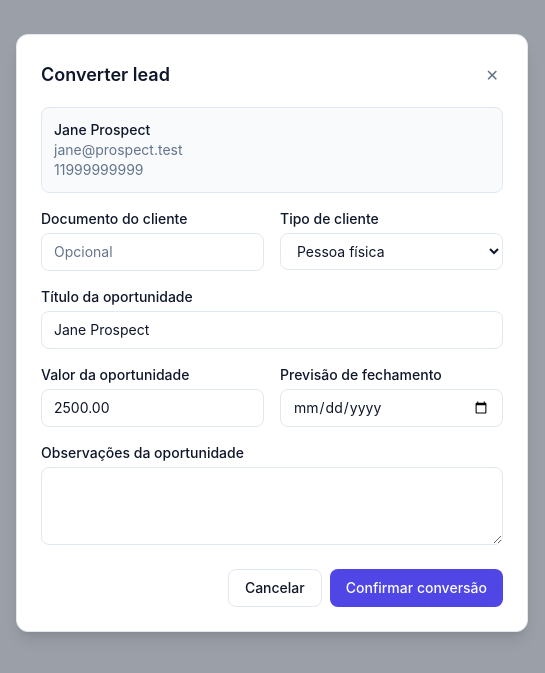
Scenario: ConvertLeadModal › shows a 422 field error next to the offending field
Click the button "Confirmar conversão": (416, 588) [330,569,503,607]
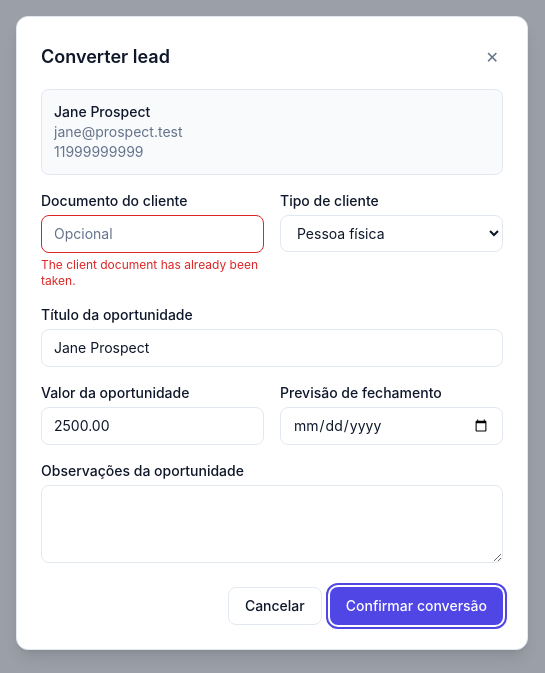
Result: the text "The client document has already been taken." is shown at [41,257,264,289]
